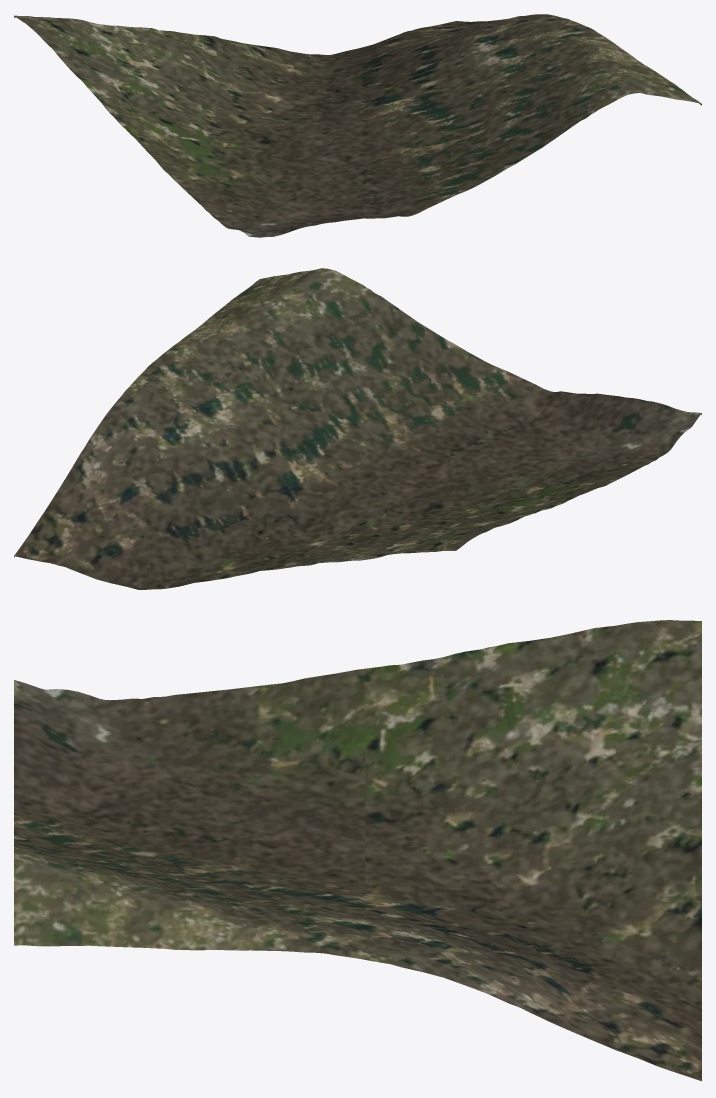
3 views of the same model, one above another, from view 1: azimuth 30°, elevation 25°; view 2: azimuth 150°, elevation 25°; view 3: azimuth 270°, elevation 25° (orthographic). The views are drawn at different scales.
Bounding box in the file's own units: 250 × 69.97 × 241.
1 material, 1 textured.
